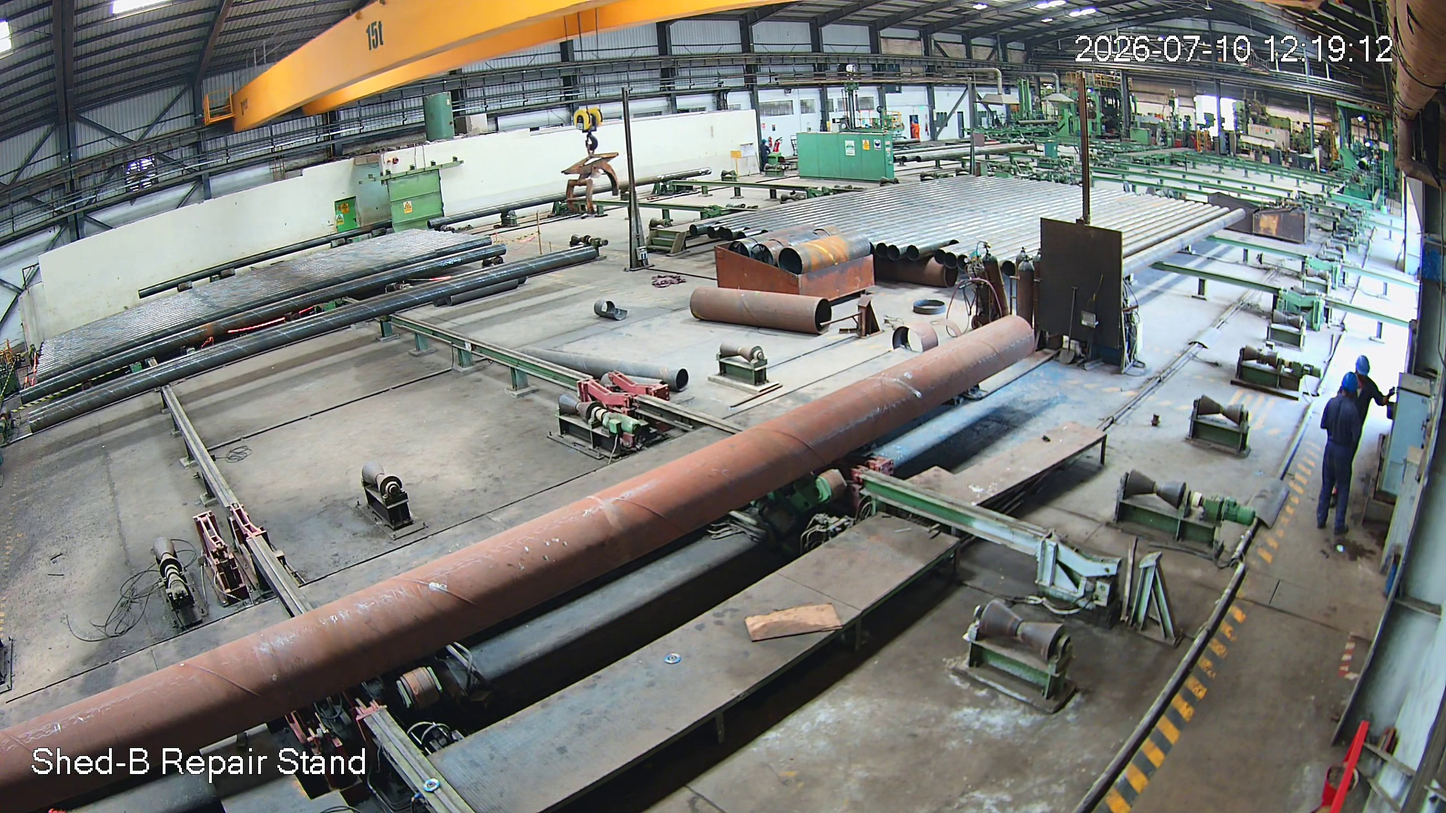Helmet: (1335, 367, 1360, 407)
Person: (1331, 370, 1364, 545)
